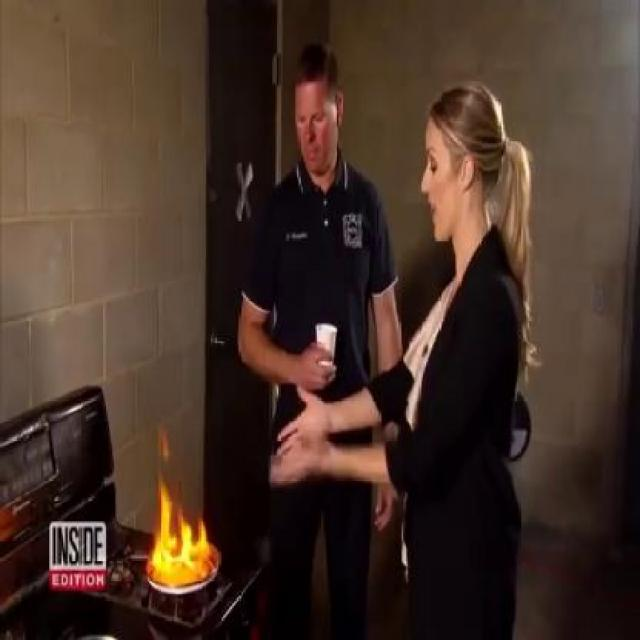fire: (134, 439, 238, 610)
